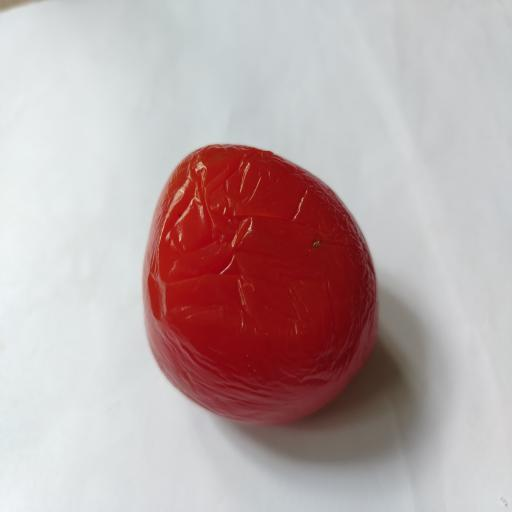spoiled: (143, 145, 378, 424)
